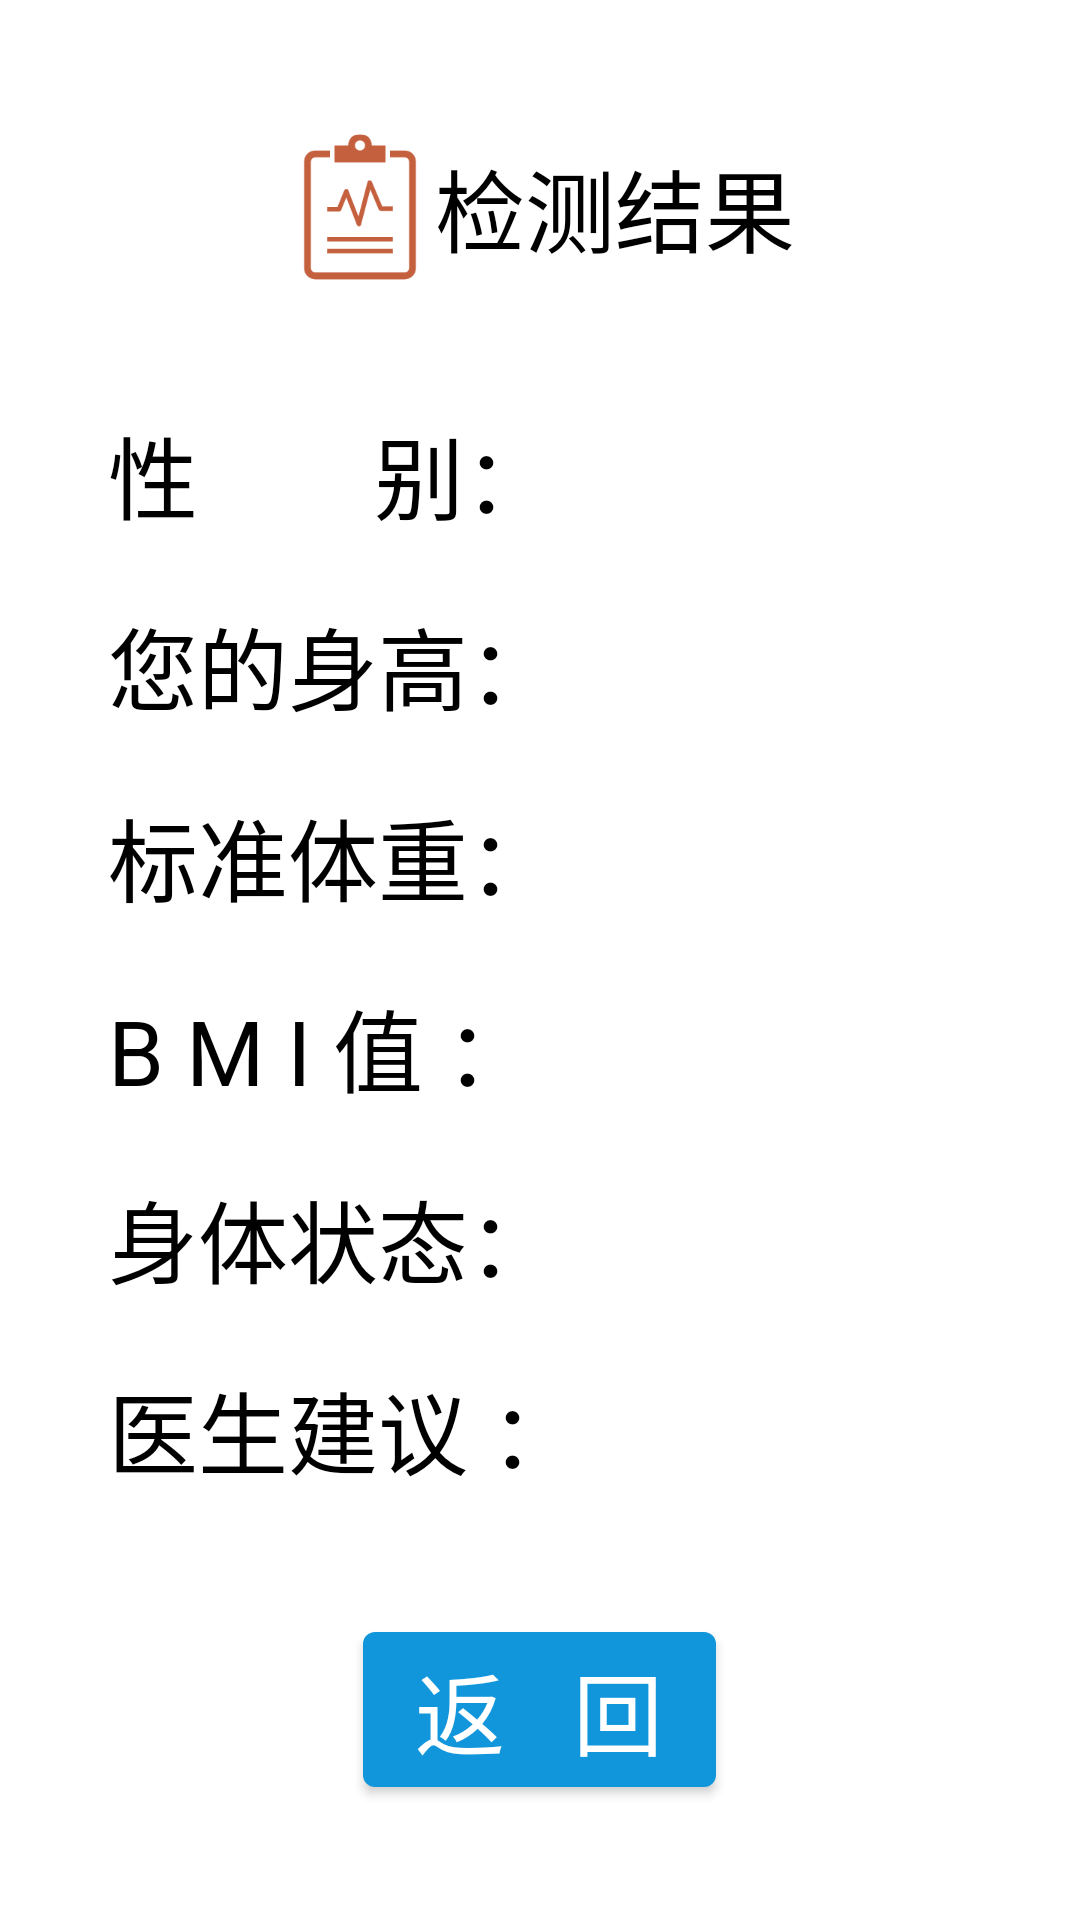

Named icons in this screenshot (1080px×1920px) and their centers, (x,y):
result: (360,207)
